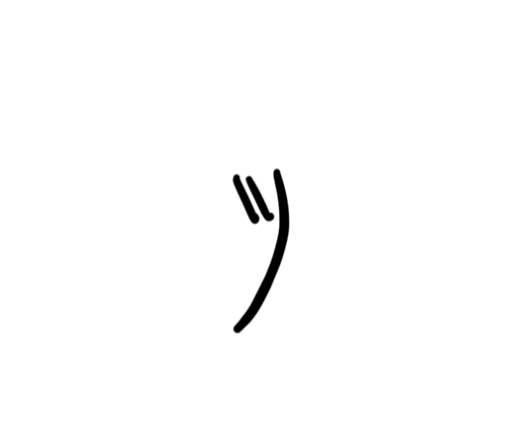tsu: (195, 158, 298, 340)
